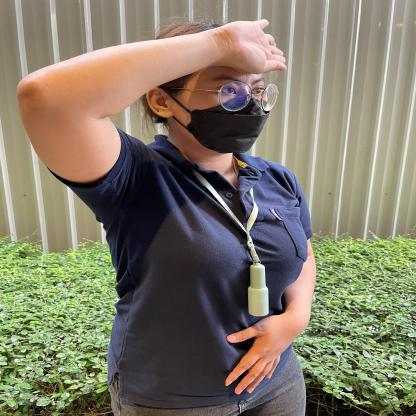Sick: (123, 4, 326, 92)
